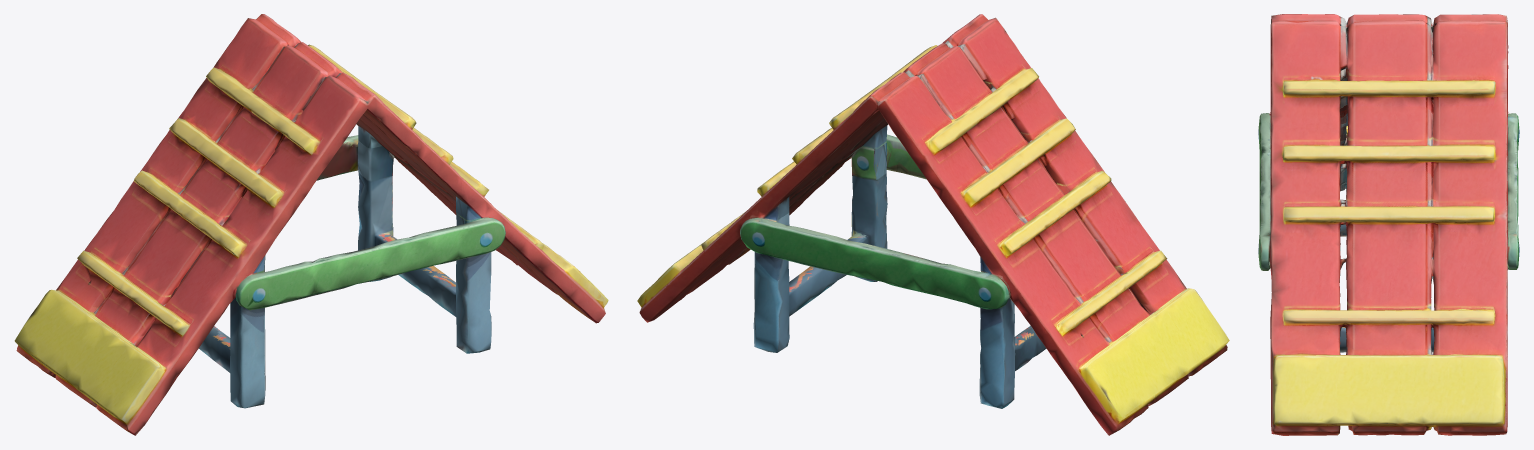
Rendered from Agility_AFrame.fbx.
The picture shows the model from 3 angles, left to right: view 1: azimuth 30°, elevation 25°; view 2: azimuth 150°, elevation 25°; view 3: azimuth 270°, elevation 25°; orthographic projection. The views are drawn at different scales.
Visible parts, largest first — view 1: texture_mapping; view 2: texture_mapping; view 3: texture_mapping.
Boxes of the visible parts, x1=… form: texture_mapping: x1=14, y1=14, x2=608, y2=435; texture_mapping: x1=637, y1=14, x2=1229, y2=435; texture_mapping: x1=1258, y1=14, x2=1519, y2=435.
Size of the model in its own units: 1 by 0.4416 by 0.5598.
1 material, 1 textured.
